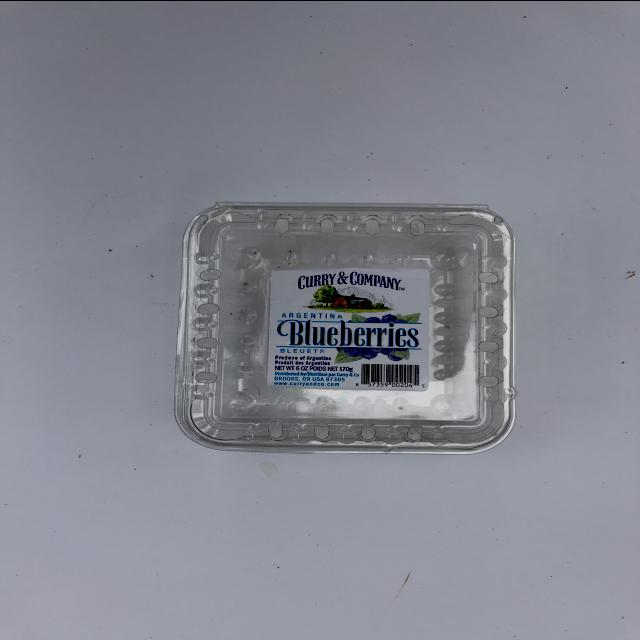Plastic: (142, 140, 554, 484)
